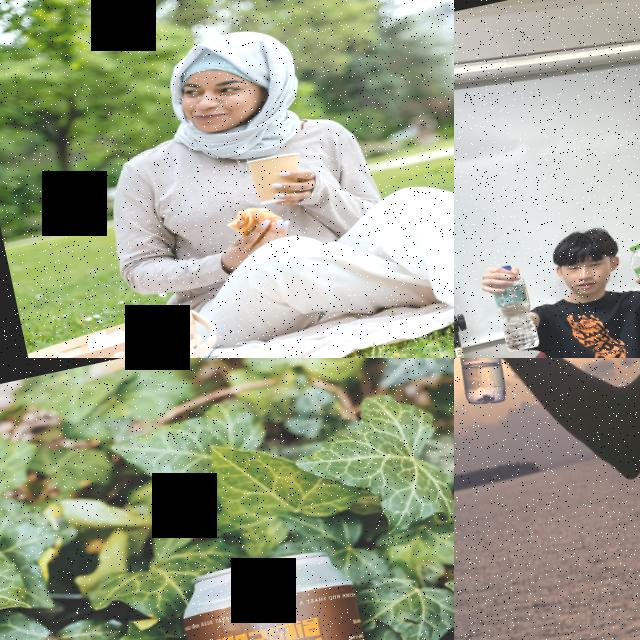bottle: (484, 260, 542, 354), (626, 234, 640, 322)
can: (166, 543, 410, 640)
cup: (242, 148, 310, 210)
